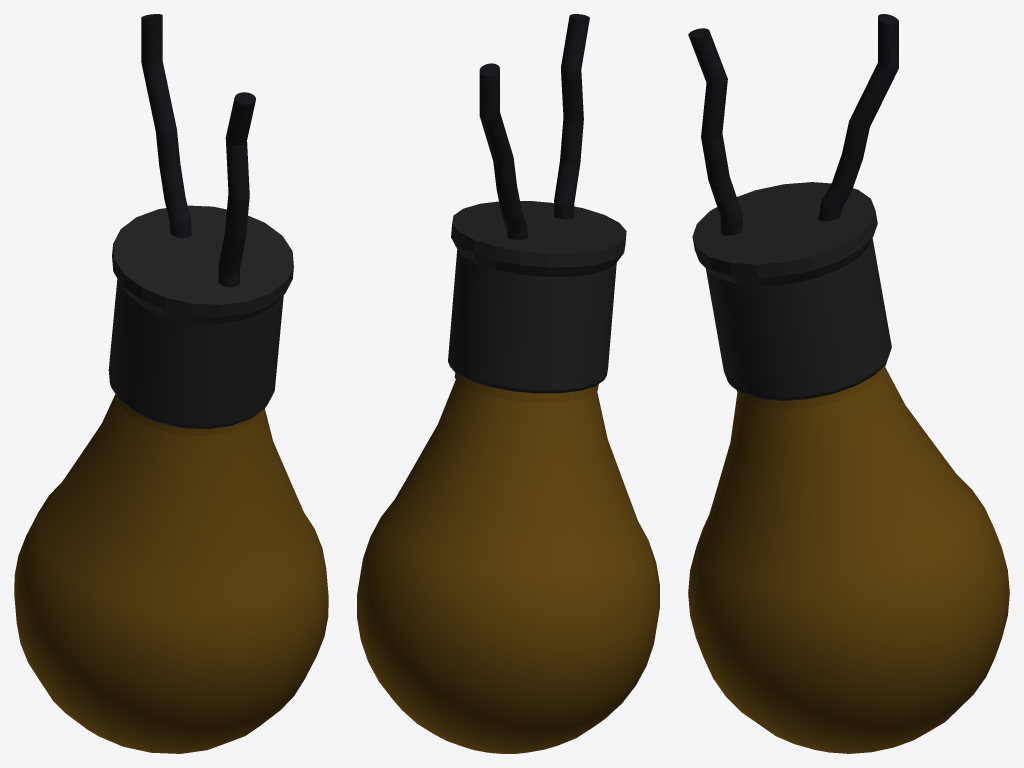
The model's file is fbx_lampada_1_texturizado.fbx.
The picture shows the model from 3 angles, left to right: view 1: azimuth 30°, elevation 25°; view 2: azimuth 150°, elevation 25°; view 3: azimuth 270°, elevation 25°; orthographic projection. The views are drawn at different scales.
Parts seen in each view (by area): view 1: pSphere10; view 2: pSphere10; view 3: pSphere10.
Boxes of the visible parts, left/top/right/bottom form: pSphere10: left=14, top=14, right=328, bottom=753; pSphere10: left=357, top=14, right=659, bottom=753; pSphere10: left=688, top=14, right=1009, bottom=753.
Bounding box in the file's own units: 8 × 19.81 × 8.
2 materials, 2 textured.
